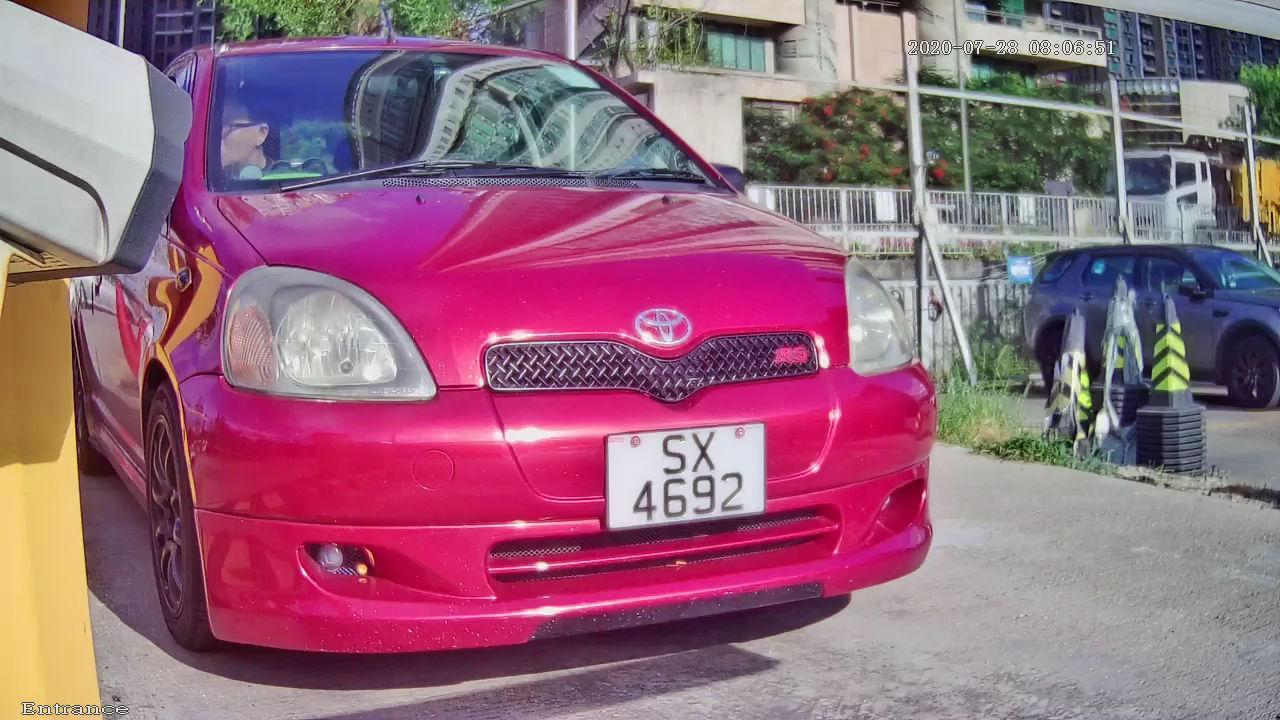privatecar: (69, 7, 989, 711)
